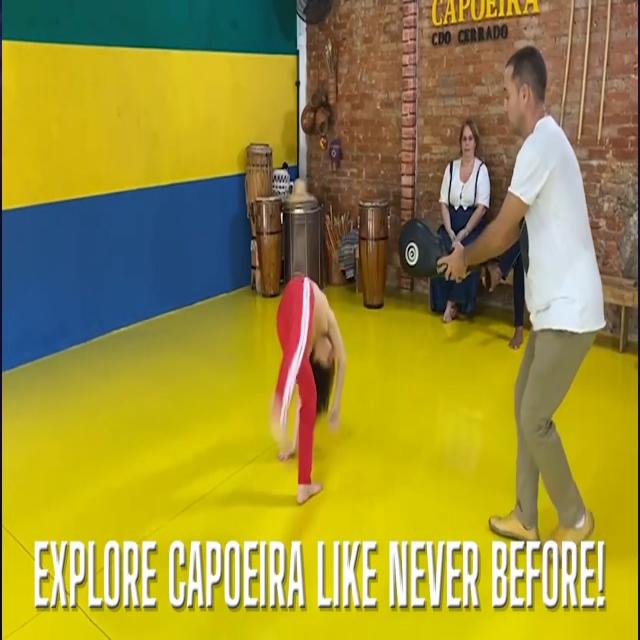paddle: (398, 214, 452, 281)
